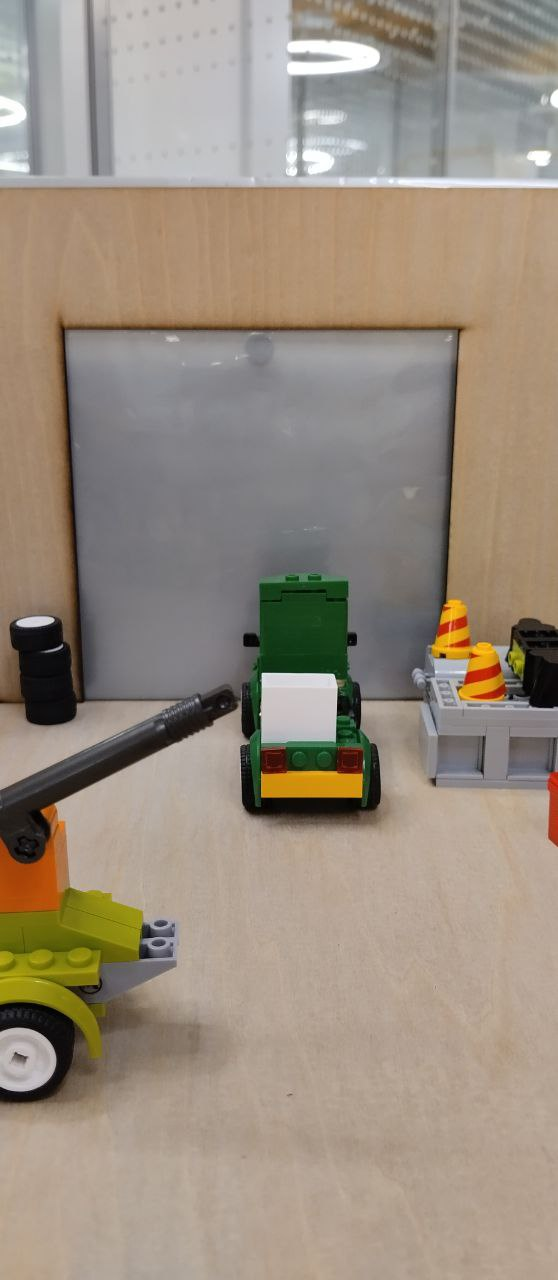Cone: (462, 640, 508, 705), (433, 600, 475, 656)
Crane: (1, 684, 239, 1110)
Object Black: (504, 616, 558, 708)
Object white: (253, 664, 340, 747)
Truck: (237, 568, 384, 820)
